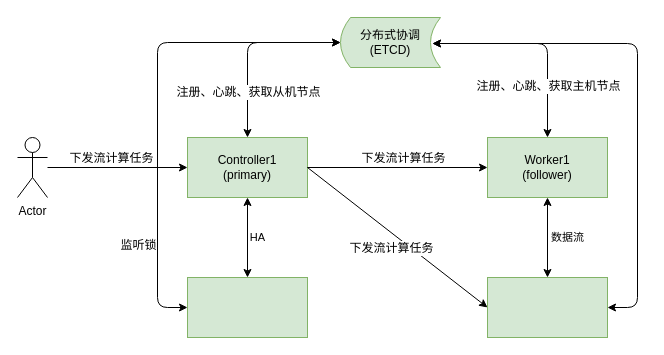
Image size: 664x355. Some labels were removed from this diagram. Each missing label, with the centre of its shape:
Controller2 (secondary): point (247, 307)
Worker2 (follower): point (547, 307)
